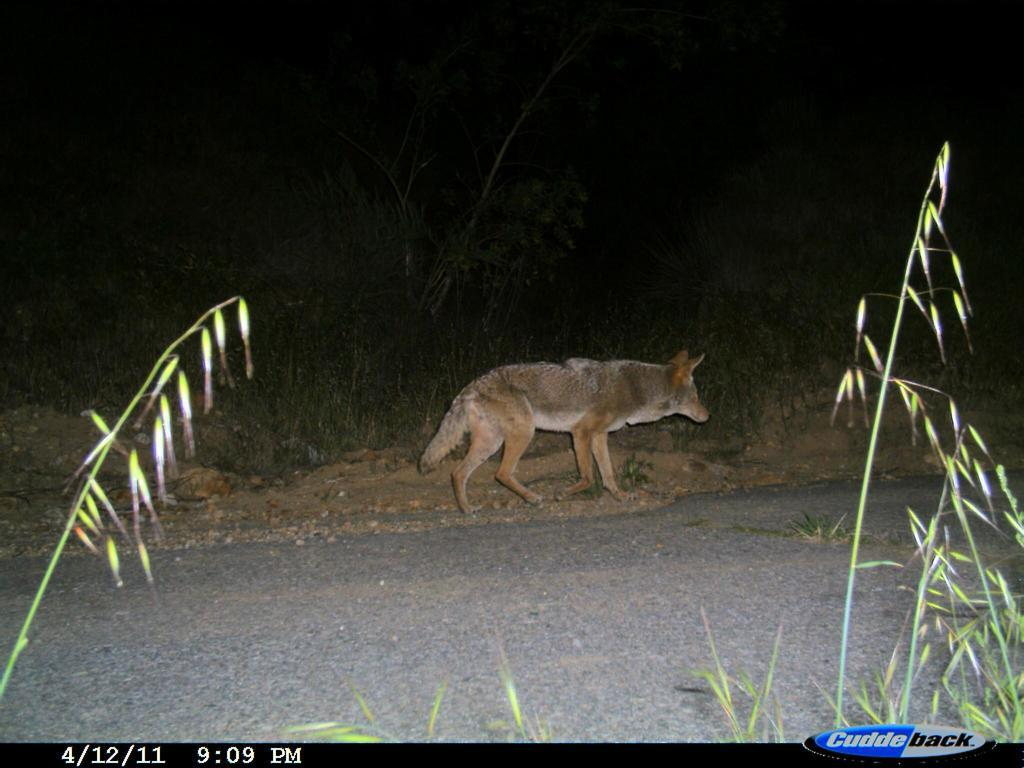coyote: (404, 332, 722, 521)
